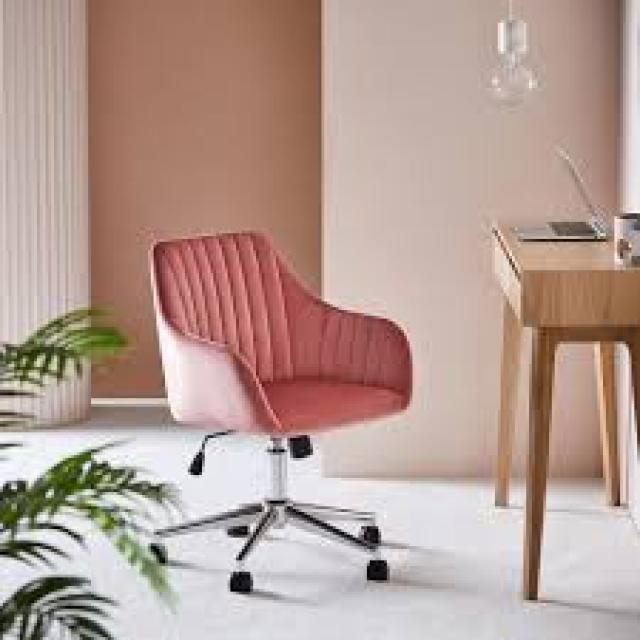chair: (102, 187, 423, 640)
